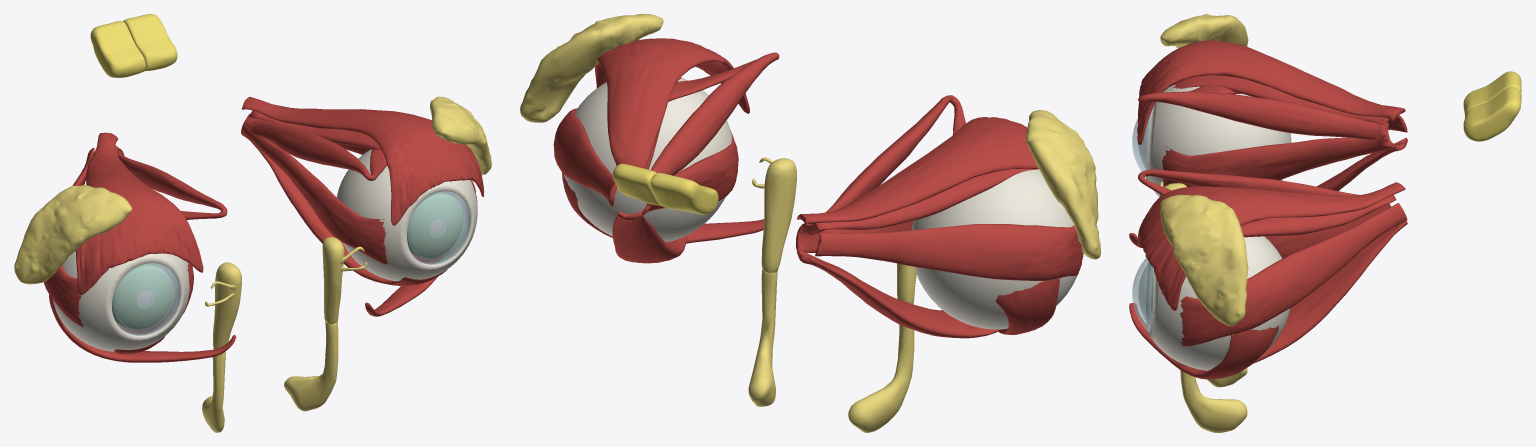
The model's file is zanatomy-eye.glb.
3 renders of one model, left to right at view 1: azimuth 30°, elevation 25°; view 2: azimuth 150°, elevation 25°; view 3: azimuth 270°, elevation 25°, orthographic. The views are drawn at different scales.
Parts seen in each view (by area): view 1: za_lps_1, za_lps_2, za_sclera_1, za_lacrimal_gland_2, za_sclera_2, za_mr_1, za_cornea_2, za_cornea_1, za_so_1, za_anterior_chamber_2, za_anterior_chamber_1, za_iris_2 (+15 smaller); view 2: za_lr_2, za_sclera_2, za_lps_1, za_lps_2, za_sclera_1, za_lacrimal_gland_2, za_lacrimal_gland_1, za_so_1, za_ir_2, za_so_2, za_lacrimal_sac_1, za_lr_1 (+11 smaller); view 3: za_lr_1, za_lacrimal_gland_1, za_lps_2, za_lps_1, za_mr_2, za_so_2, za_sclera_2, za_sclera_1, za_ir_1, za_io_1, za_so_1, za_lacrimal_gland_2 (+10 smaller).
Boxes of the visible parts, x1=… form: za_lps_1: x1=242, y1=97, x2=484, y2=225; za_lps_2: x1=75, y1=132, x2=203, y2=295; za_sclera_1: x1=336, y1=149, x2=477, y2=281; za_lacrimal_gland_2: x1=14, y1=185, x2=132, y2=284; za_sclera_2: x1=53, y1=251, x2=189, y2=351; za_mr_1: x1=241, y1=121, x2=387, y2=264; za_cornea_2: x1=112, y1=263, x2=180, y2=336; za_cornea_1: x1=407, y1=191, x2=470, y2=264; za_so_1: x1=245, y1=114, x2=387, y2=180; za_anterior_chamber_2: x1=113, y1=266, x2=175, y2=331; za_anterior_chamber_1: x1=408, y1=194, x2=465, y2=259; za_iris_2: x1=112, y1=263, x2=172, y2=329; za_lr_2: x1=815, y1=224, x2=1083, y2=280; za_sclera_2: x1=911, y1=169, x2=1077, y2=329; za_lps_1: x1=595, y1=38, x2=749, y2=168; za_lps_2: x1=796, y1=117, x2=1038, y2=223; za_sclera_1: x1=564, y1=77, x2=731, y2=242; za_lacrimal_gland_2: x1=1025, y1=110, x2=1100, y2=259; za_lacrimal_gland_1: x1=520, y1=14, x2=663, y2=122; za_so_1: x1=650, y1=52, x2=779, y2=175; za_ir_2: x1=797, y1=249, x2=1000, y2=338; za_so_2: x1=800, y1=95, x2=965, y2=235; za_lacrimal_sac_1: x1=761, y1=158, x2=796, y2=272; za_lr_1: x1=553, y1=108, x2=616, y2=206; za_lr_1: x1=1180, y1=203, x2=1407, y2=346; za_lacrimal_gland_1: x1=1160, y1=194, x2=1248, y2=326; za_lps_2: x1=1137, y1=40, x2=1405, y2=144; za_lps_1: x1=1137, y1=182, x2=1405, y2=310; za_mr_2: x1=1162, y1=129, x2=1396, y2=186; za_so_2: x1=1138, y1=84, x2=1388, y2=139; za_sclera_2: x1=1146, y1=85, x2=1291, y2=197; za_sclera_1: x1=1146, y1=236, x2=1289, y2=370; za_ir_1: x1=1171, y1=221, x2=1407, y2=368; za_io_1: x1=1129, y1=303, x2=1278, y2=379; za_so_1: x1=1138, y1=169, x2=1359, y2=236; za_lacrimal_gland_2: x1=1160, y1=14, x2=1248, y2=48.
Bounding box in the file's own units: 0.101 × 0.0613 × 0.0674.
